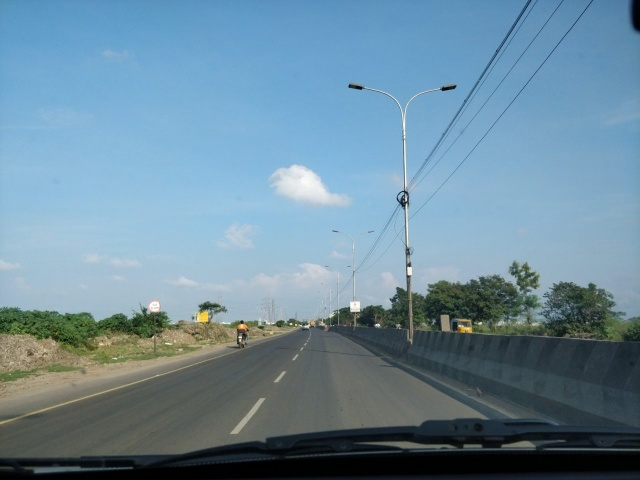auto: (452, 318, 474, 334)
car: (301, 320, 312, 332)
motorbike: (234, 320, 251, 350)
